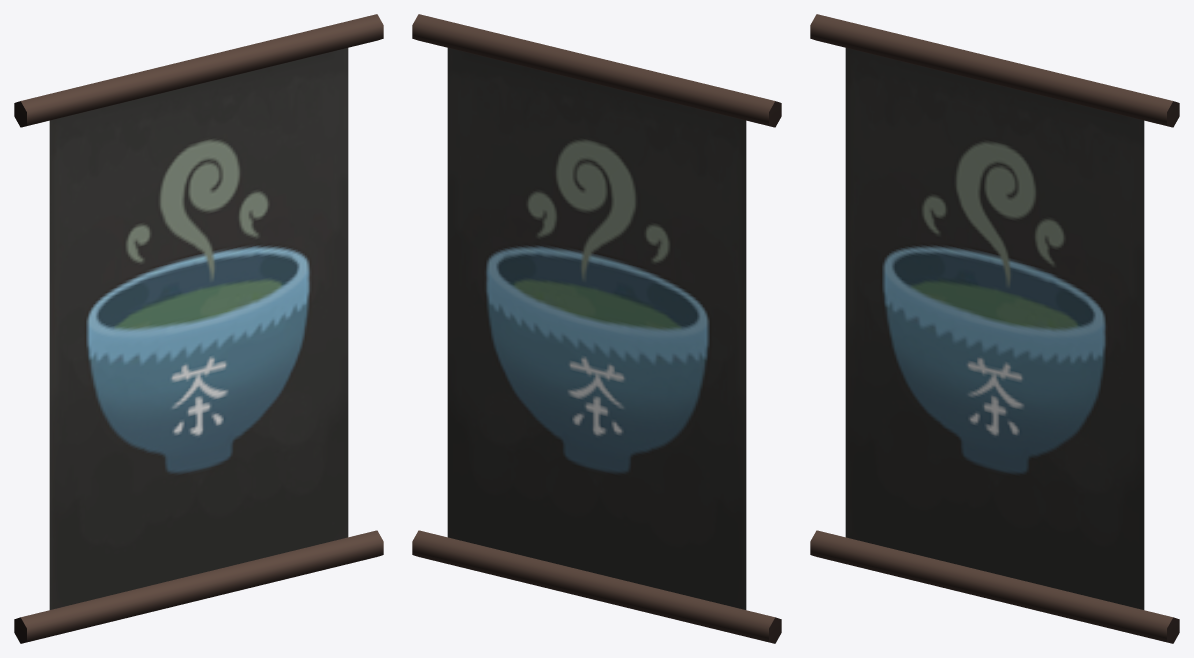
Rendered from SK_Picture_003.FBX.
3 views of the same model, side by side, from view 1: azimuth 30°, elevation 25°; view 2: azimuth 150°, elevation 25°; view 3: azimuth 330°, elevation 25° (orthographic).
Visible parts, largest first — view 1: SK_Picture_003_pic, SK_Picture_003; view 2: SK_Picture_003_pic, SK_Picture_003; view 3: SK_Picture_003_pic, SK_Picture_003.
Part boxes in pixels (x1,y1,x2,y2): SK_Picture_003_pic: (49,48,348,609); SK_Picture_003: (14,14,383,643); SK_Picture_003_pic: (447,48,746,609); SK_Picture_003: (412,14,781,643); SK_Picture_003_pic: (845,48,1144,609); SK_Picture_003: (810,14,1179,643).
Size of the model in its own units: 50.02 by 72.76 by 3.1.
